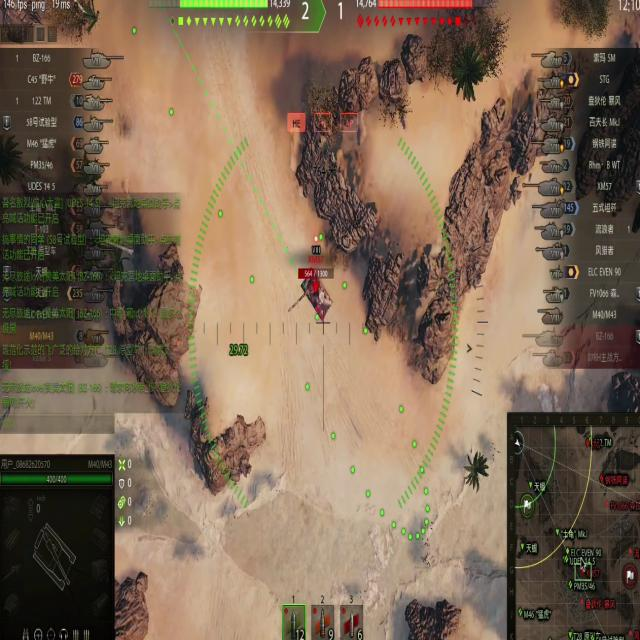tank: (296, 258, 338, 321)
